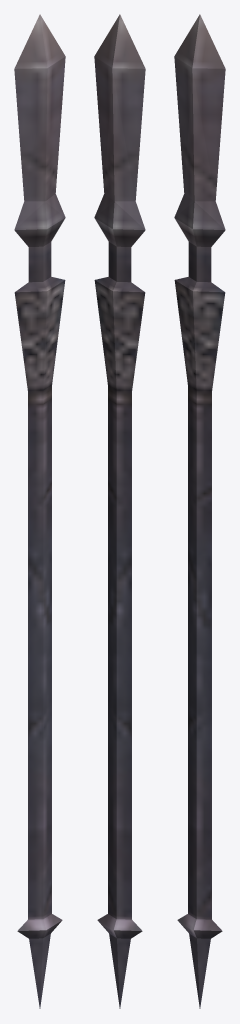
Rendered from lance_2.FBX.
3 views of the same model, side by side, from view 1: azimuth 30°, elevation 25°; view 2: azimuth 150°, elevation 25°; view 3: azimuth 330°, elevation 25° (orthographic).
Visible parts, largest first — view 1: lance_2; view 2: lance_2; view 3: lance_2.
Boxes of the visible parts, x1,y1,x2,y2 form: lance_2: [14, 14, 65, 1008]; lance_2: [94, 14, 145, 1008]; lance_2: [174, 14, 225, 1008].
Size of the model in its own units: 4.09 by 75.83 by 2.09.
